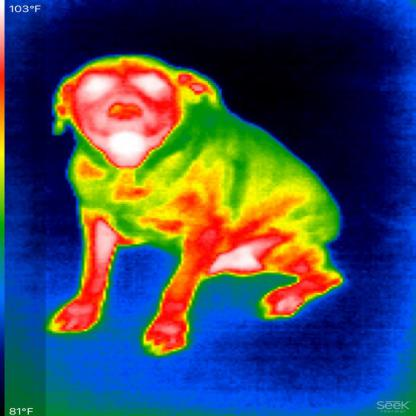dog: (43, 41, 353, 359)
